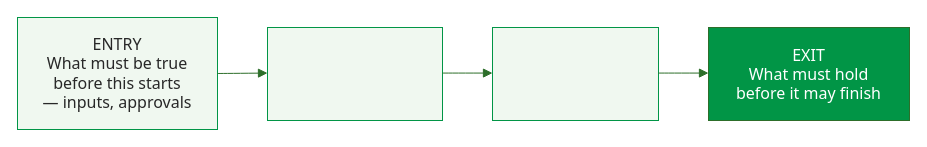
Image size: 927x147. Some labels were removed from this diagram. Each missing label, with the centre of its shape:
"TASK What is actually done" goes at point 354,73.
"VALIDATION How the result is checked" goes at point 575,73.
